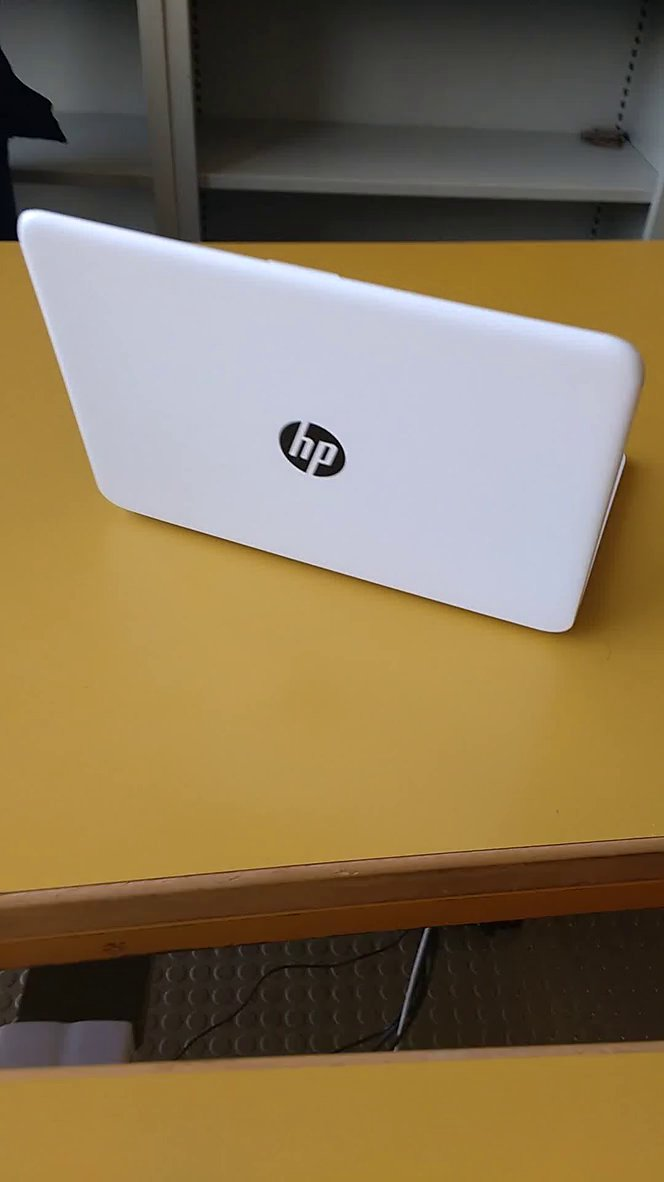laptop: (10, 201, 649, 645)
